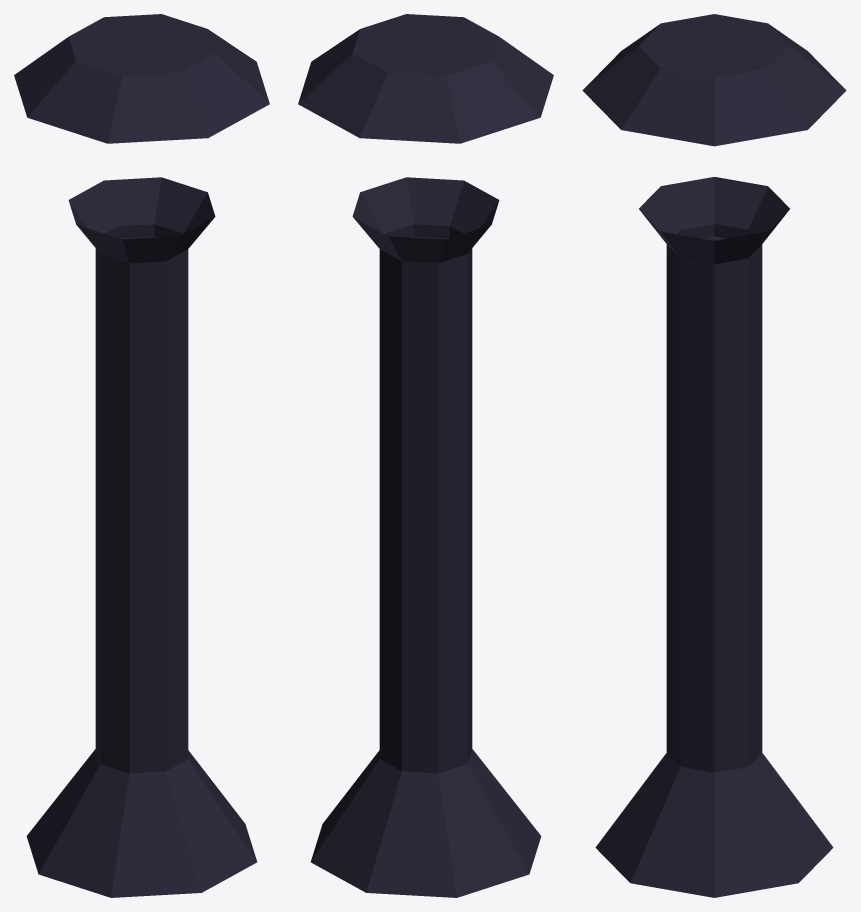
File: Streetlight.glb
3 renders of one model, left to right at view 1: azimuth 30°, elevation 25°; view 2: azimuth 150°, elevation 25°; view 3: azimuth 270°, elevation 25°, orthographic.
Visible parts, largest first — view 1: Streetlight; view 2: Streetlight; view 3: Streetlight.
Part boxes in pixels (x1=…): Streetlight: x1=14, y1=14, x2=269, y2=897; Streetlight: x1=298, y1=14, x2=553, y2=897; Streetlight: x1=582, y1=14, x2=846, y2=897.
Size of what is drawn, in the model's own units: 1.01 by 3.38 by 1.01.
Materials: 1 (1 with a texture image).
